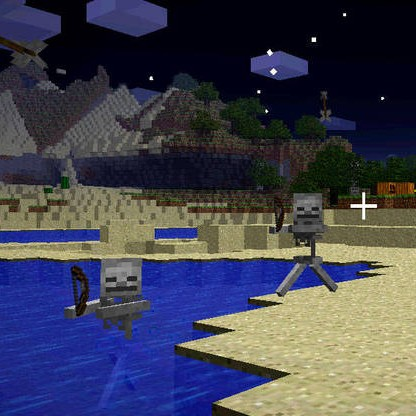skeleton: (270, 190, 335, 286)
